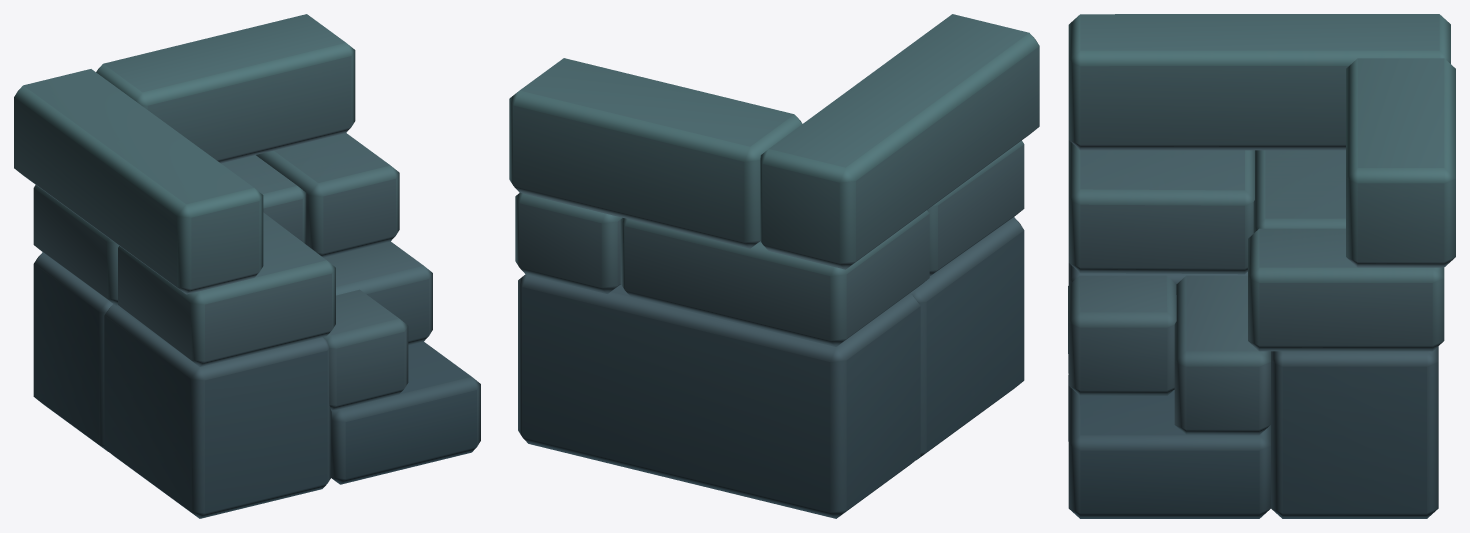
File: stair_corner_concave.fbx
3 renders of one model, left to right at view 1: azimuth 30°, elevation 25°; view 2: azimuth 150°, elevation 25°; view 3: azimuth 270°, elevation 25°, orthographic. The views are drawn at different scales.
Parts seen in each view (by area): view 1: stair_corner_concave; view 2: stair_corner_concave; view 3: stair_corner_concave.
Boxes of the visible parts, x1,y1,x2,y2 form: stair_corner_concave: (14, 14, 480, 518); stair_corner_concave: (509, 14, 1039, 518); stair_corner_concave: (1068, 14, 1455, 518).
Bounding box in the file's own units: 105 × 105 × 105.
